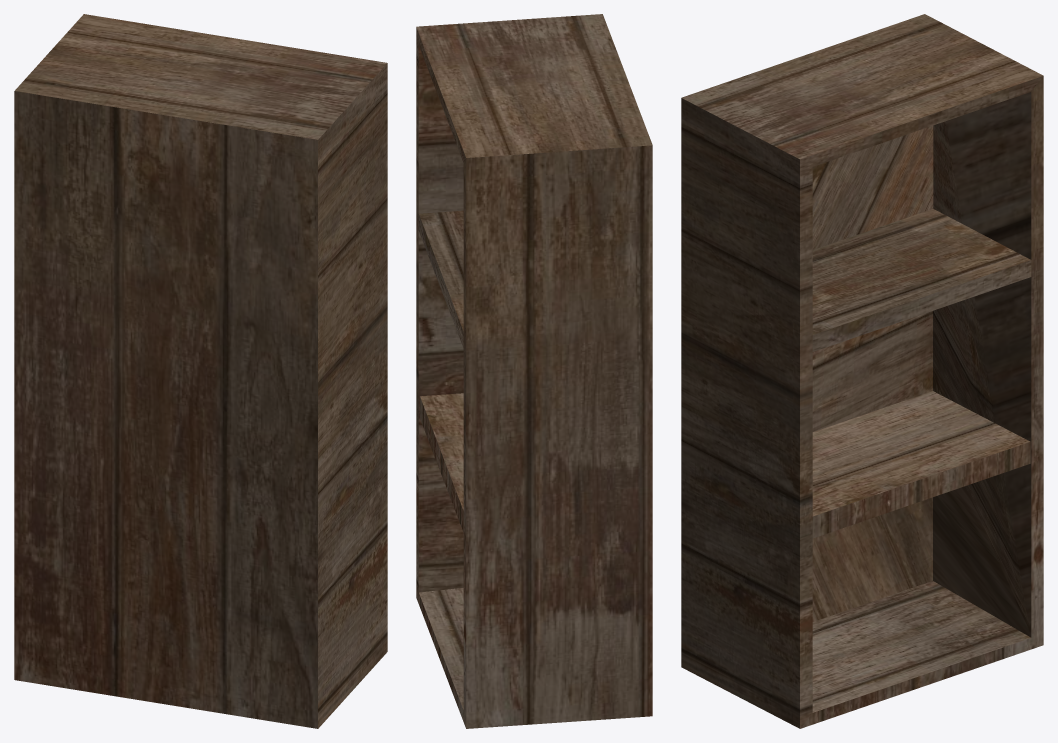
The model's file is BookShelf.fbx.
3 views of the same model, side by side, from view 1: azimuth 30°, elevation 25°; view 2: azimuth 150°, elevation 25°; view 3: azimuth 270°, elevation 25° (orthographic). The views are drawn at different scales.
Visible parts, largest first — view 1: Bookshelf2__1_:Bookshelf2_1_; view 2: Bookshelf2__1_:Bookshelf2_1_; view 3: Bookshelf2__1_:Bookshelf2_1_.
Boxes of the visible parts, bbox=[...] form: Bookshelf2__1_:Bookshelf2_1_: bbox=[14, 14, 387, 728]; Bookshelf2__1_:Bookshelf2_1_: bbox=[416, 14, 652, 728]; Bookshelf2__1_:Bookshelf2_1_: bbox=[681, 14, 1043, 728].
Bounding box in the file's own units: 0.5483 × 1 × 0.5772.
